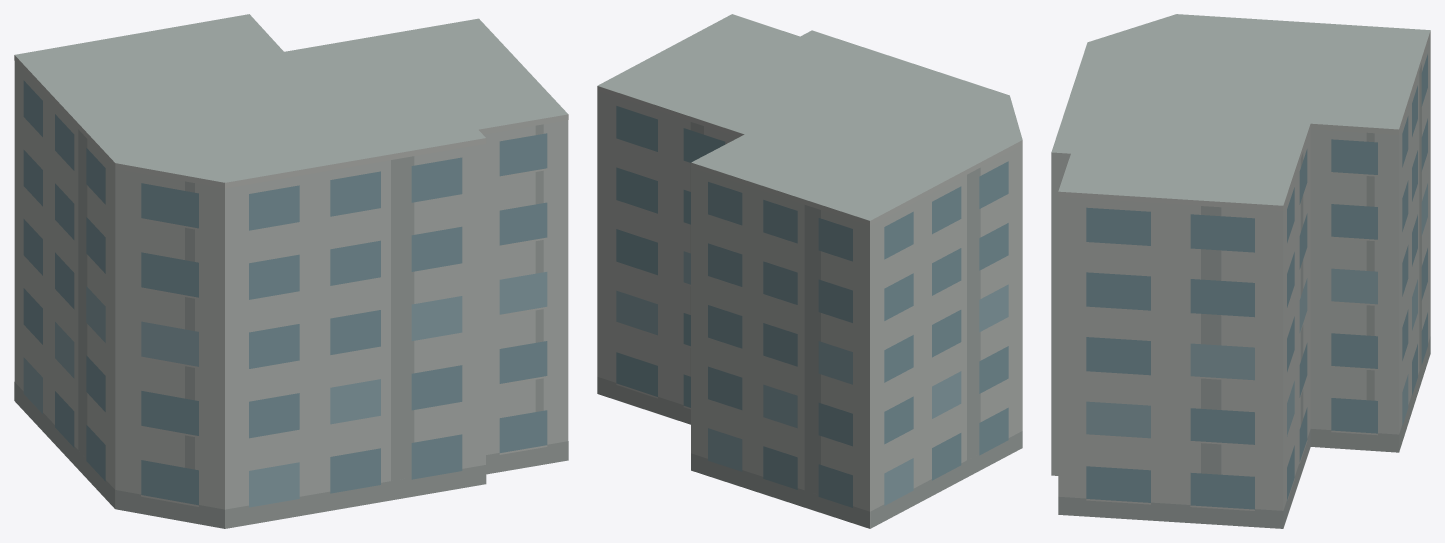
File: survey-upis-32892857.glb
3 renders of one model, left to right at view 1: azimuth 30°, elevation 25°; view 2: azimuth 150°, elevation 25°; view 3: azimuth 270°, elevation 25°, orthographic. The views are drawn at different scales.
Visible parts, largest first — view 1: survey-upis-32892857.tmp; view 2: survey-upis-32892857.tmp; view 3: survey-upis-32892857.tmp.
Boxes of the visible parts, left/top/right/bottom form: survey-upis-32892857.tmp: left=14, top=14, right=568, bottom=528; survey-upis-32892857.tmp: left=597, top=14, right=1022, bottom=528; survey-upis-32892857.tmp: left=1051, top=14, right=1430, bottom=528.
Size of the model in its own units: 18.62 by 14.62 by 15.57.
